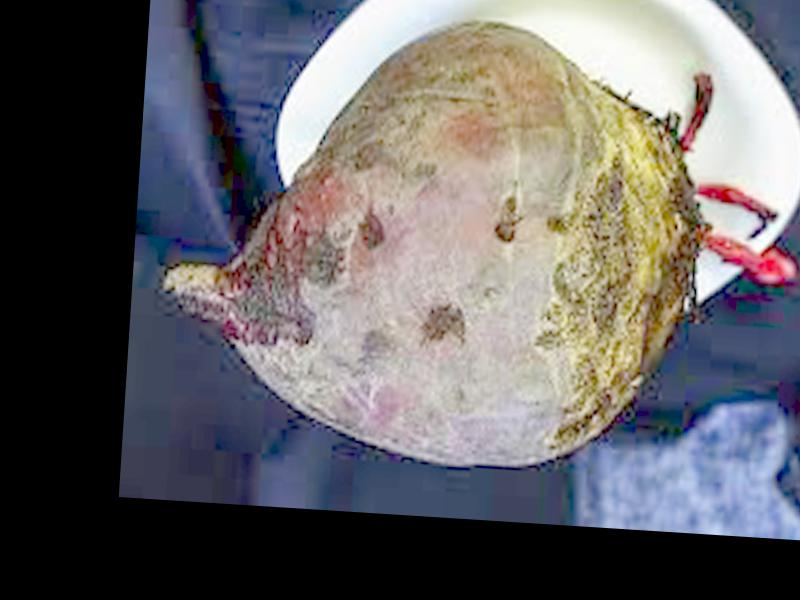Beet: (157, 4, 800, 479)
